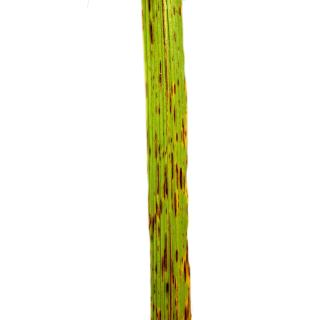Bercak-Cokelat-Sempit: (138, 0, 189, 80), (145, 130, 190, 218), (150, 227, 190, 319)
